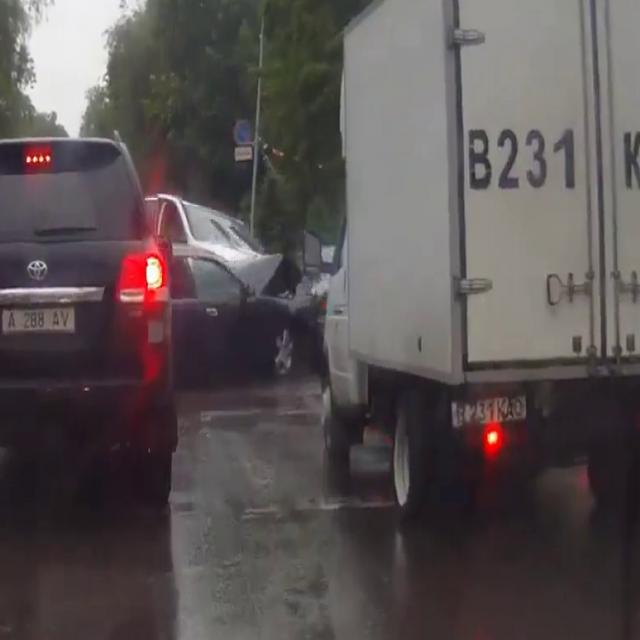accident: (166, 178, 346, 385)
